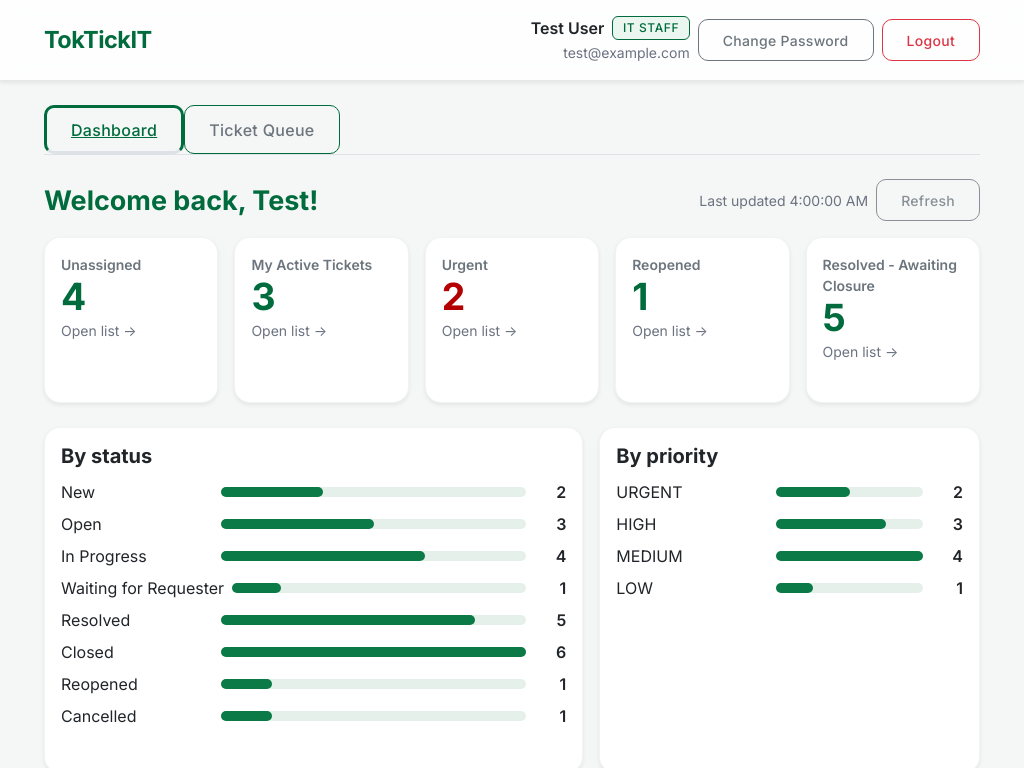
Test: UI-25: role navigation, landing page and dashboard drill-down (Issue #33) › a staff card opens the Ticket Queue with its filters applied to the controls and the request
Step 1. Click the link with aria-label "Unassigned: 4" → click(131, 320), box [44,237,218,403]
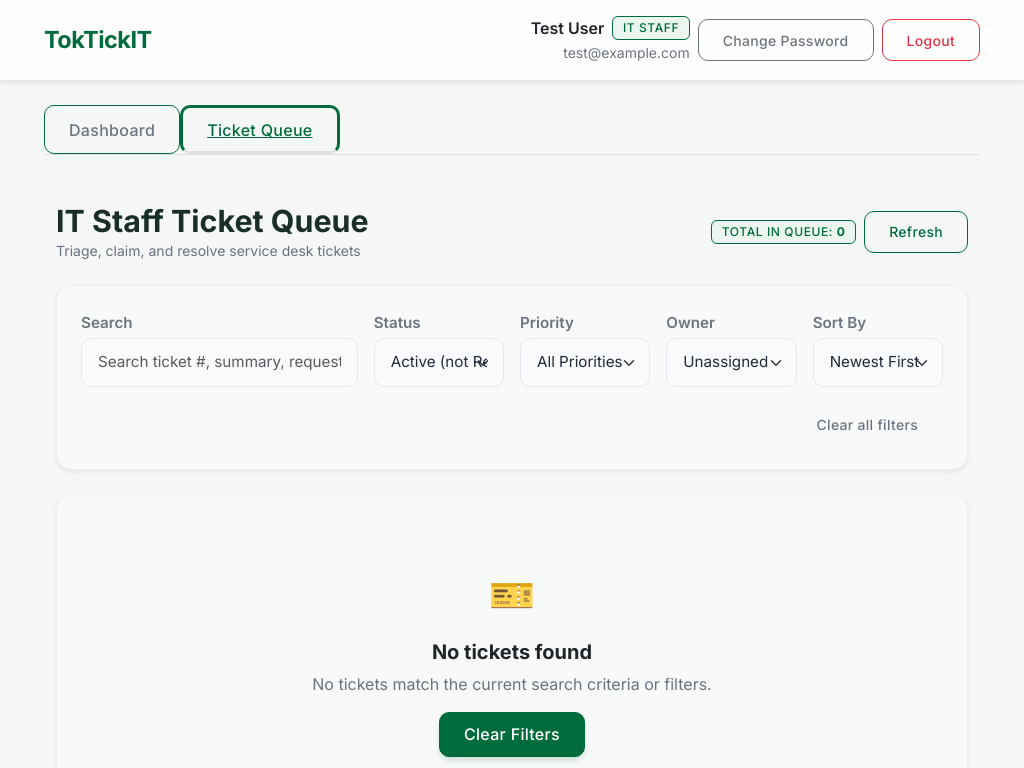
Now the dropdown labelled "Owner" shows "Unassigned", box [666,338,797,387]
Now the dropdown labelled "Status" shows "Active (not Resolved, Closed or Cancelled)", box [374,338,504,387]
Now the dropdown labelled "Priority" shows "All Priorities", box [520,338,650,387]
